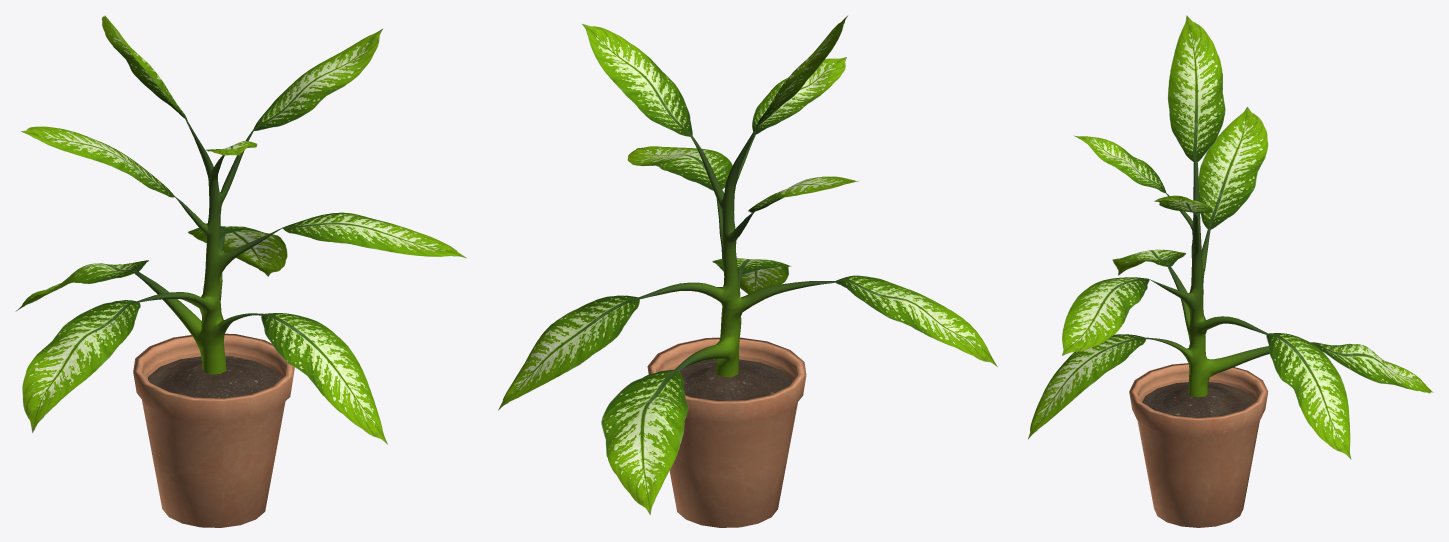
3 renders of one model, left to right at view 1: azimuth 30°, elevation 25°; view 2: azimuth 150°, elevation 25°; view 3: azimuth 270°, elevation 25°, orthographic. The views are drawn at different scales.
Visible parts, largest first — view 1: g_plant, g_pot, g_dirt; view 2: g_plant, g_pot, g_dirt; view 3: g_plant, g_pot, g_dirt.
Part boxes in pixels (left/top/right/bottom): g_plant: left=15, top=15, right=466, bottom=444; g_pot: left=133, top=333, right=294, bottom=527; g_dirt: left=148, top=356, right=280, bottom=398; g_plant: left=498, top=15, right=997, bottom=514; g_pot: left=647, top=337, right=806, bottom=527; g_dirt: left=679, top=359, right=792, bottom=400; g_plant: left=1028, top=15, right=1433, bottom=459; g_pot: left=1129, top=363, right=1268, bottom=527; g_dirt: left=1142, top=382, right=1254, bottom=417.
Bounding box in the file's own units: 59.13 × 73.71 × 61.03.
Materials: 4 (4 with a texture image).
